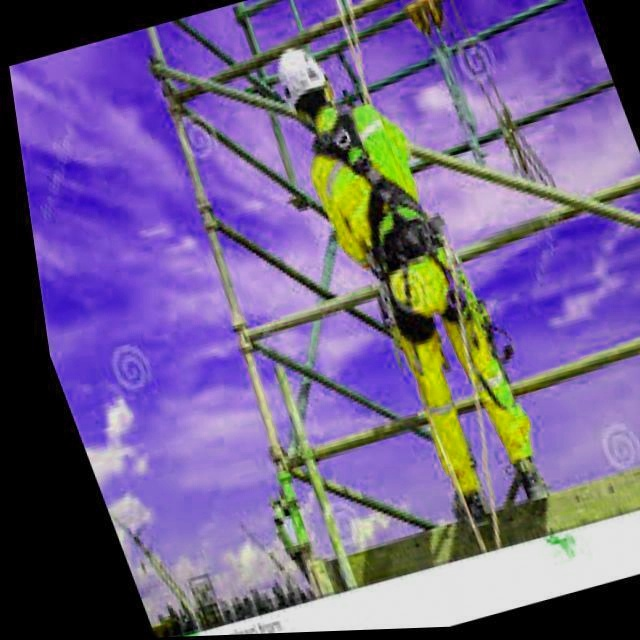safety belt: (292, 134, 514, 355)
